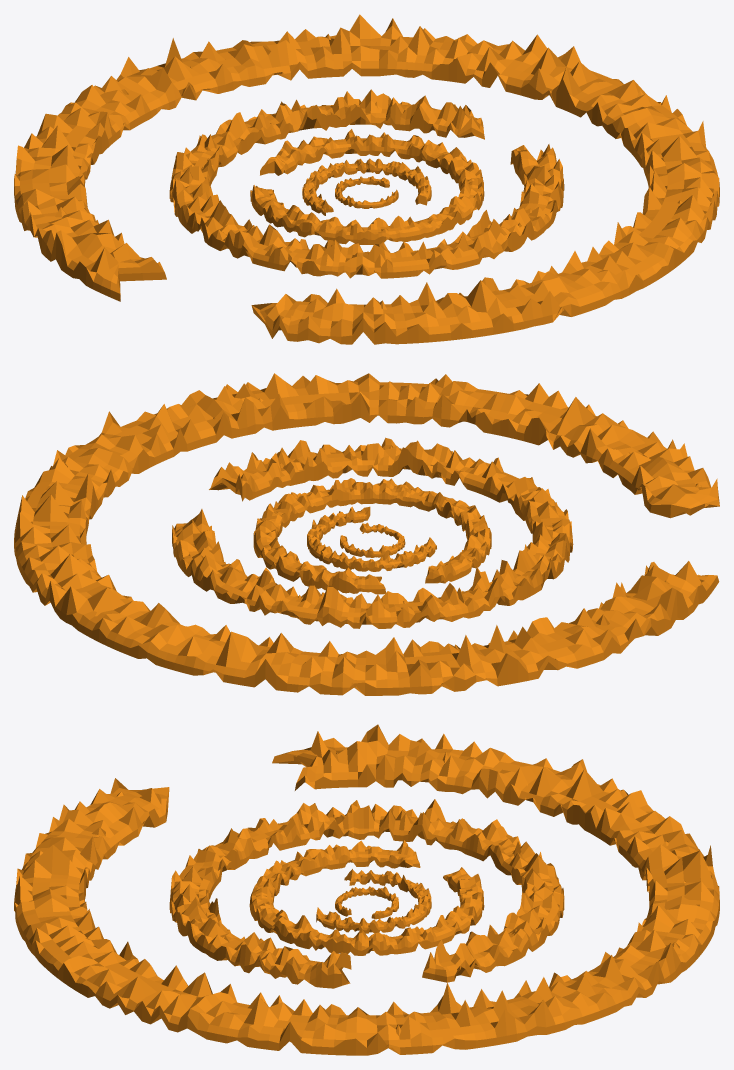
File: hireco_3DScene_ringR-v1-forGLTF.glb
3 views of the same model, one above another, from view 1: azimuth 30°, elevation 25°; view 2: azimuth 150°, elevation 25°; view 3: azimuth 270°, elevation 25° (orthographic).
Parts seen in each view (by area): view 1: ring_6-r, ring_5-r, ring_4-r, ring_3-r, ring_2-r; view 2: ring_6-r, ring_5-r, ring_4-r, ring_3-r, ring_2-r; view 3: ring_6-r, ring_5-r, ring_4-r, ring_3-r, ring_2-r.
Boxes of the visible parts, box(x1,y1,x2,y2) form: ring_6-r: box(14, 14, 719, 344); ring_5-r: box(169, 89, 564, 278); ring_4-r: box(250, 129, 484, 244); ring_3-r: box(302, 158, 431, 215); ring_2-r: box(335, 176, 398, 208); ring_6-r: box(14, 373, 719, 695); ring_5-r: box(172, 437, 573, 628); ring_4-r: box(253, 478, 491, 594); ring_3-r: box(307, 506, 436, 571); ring_2-r: box(340, 522, 405, 557); ring_6-r: box(14, 724, 719, 1055); ring_5-r: box(169, 799, 564, 988); ring_4-r: box(249, 840, 484, 955); ring_3-r: box(316, 869, 431, 933); ring_2-r: box(335, 886, 398, 919).
Size of the model in its own units: 1.55 by 0.1035 by 1.55.
